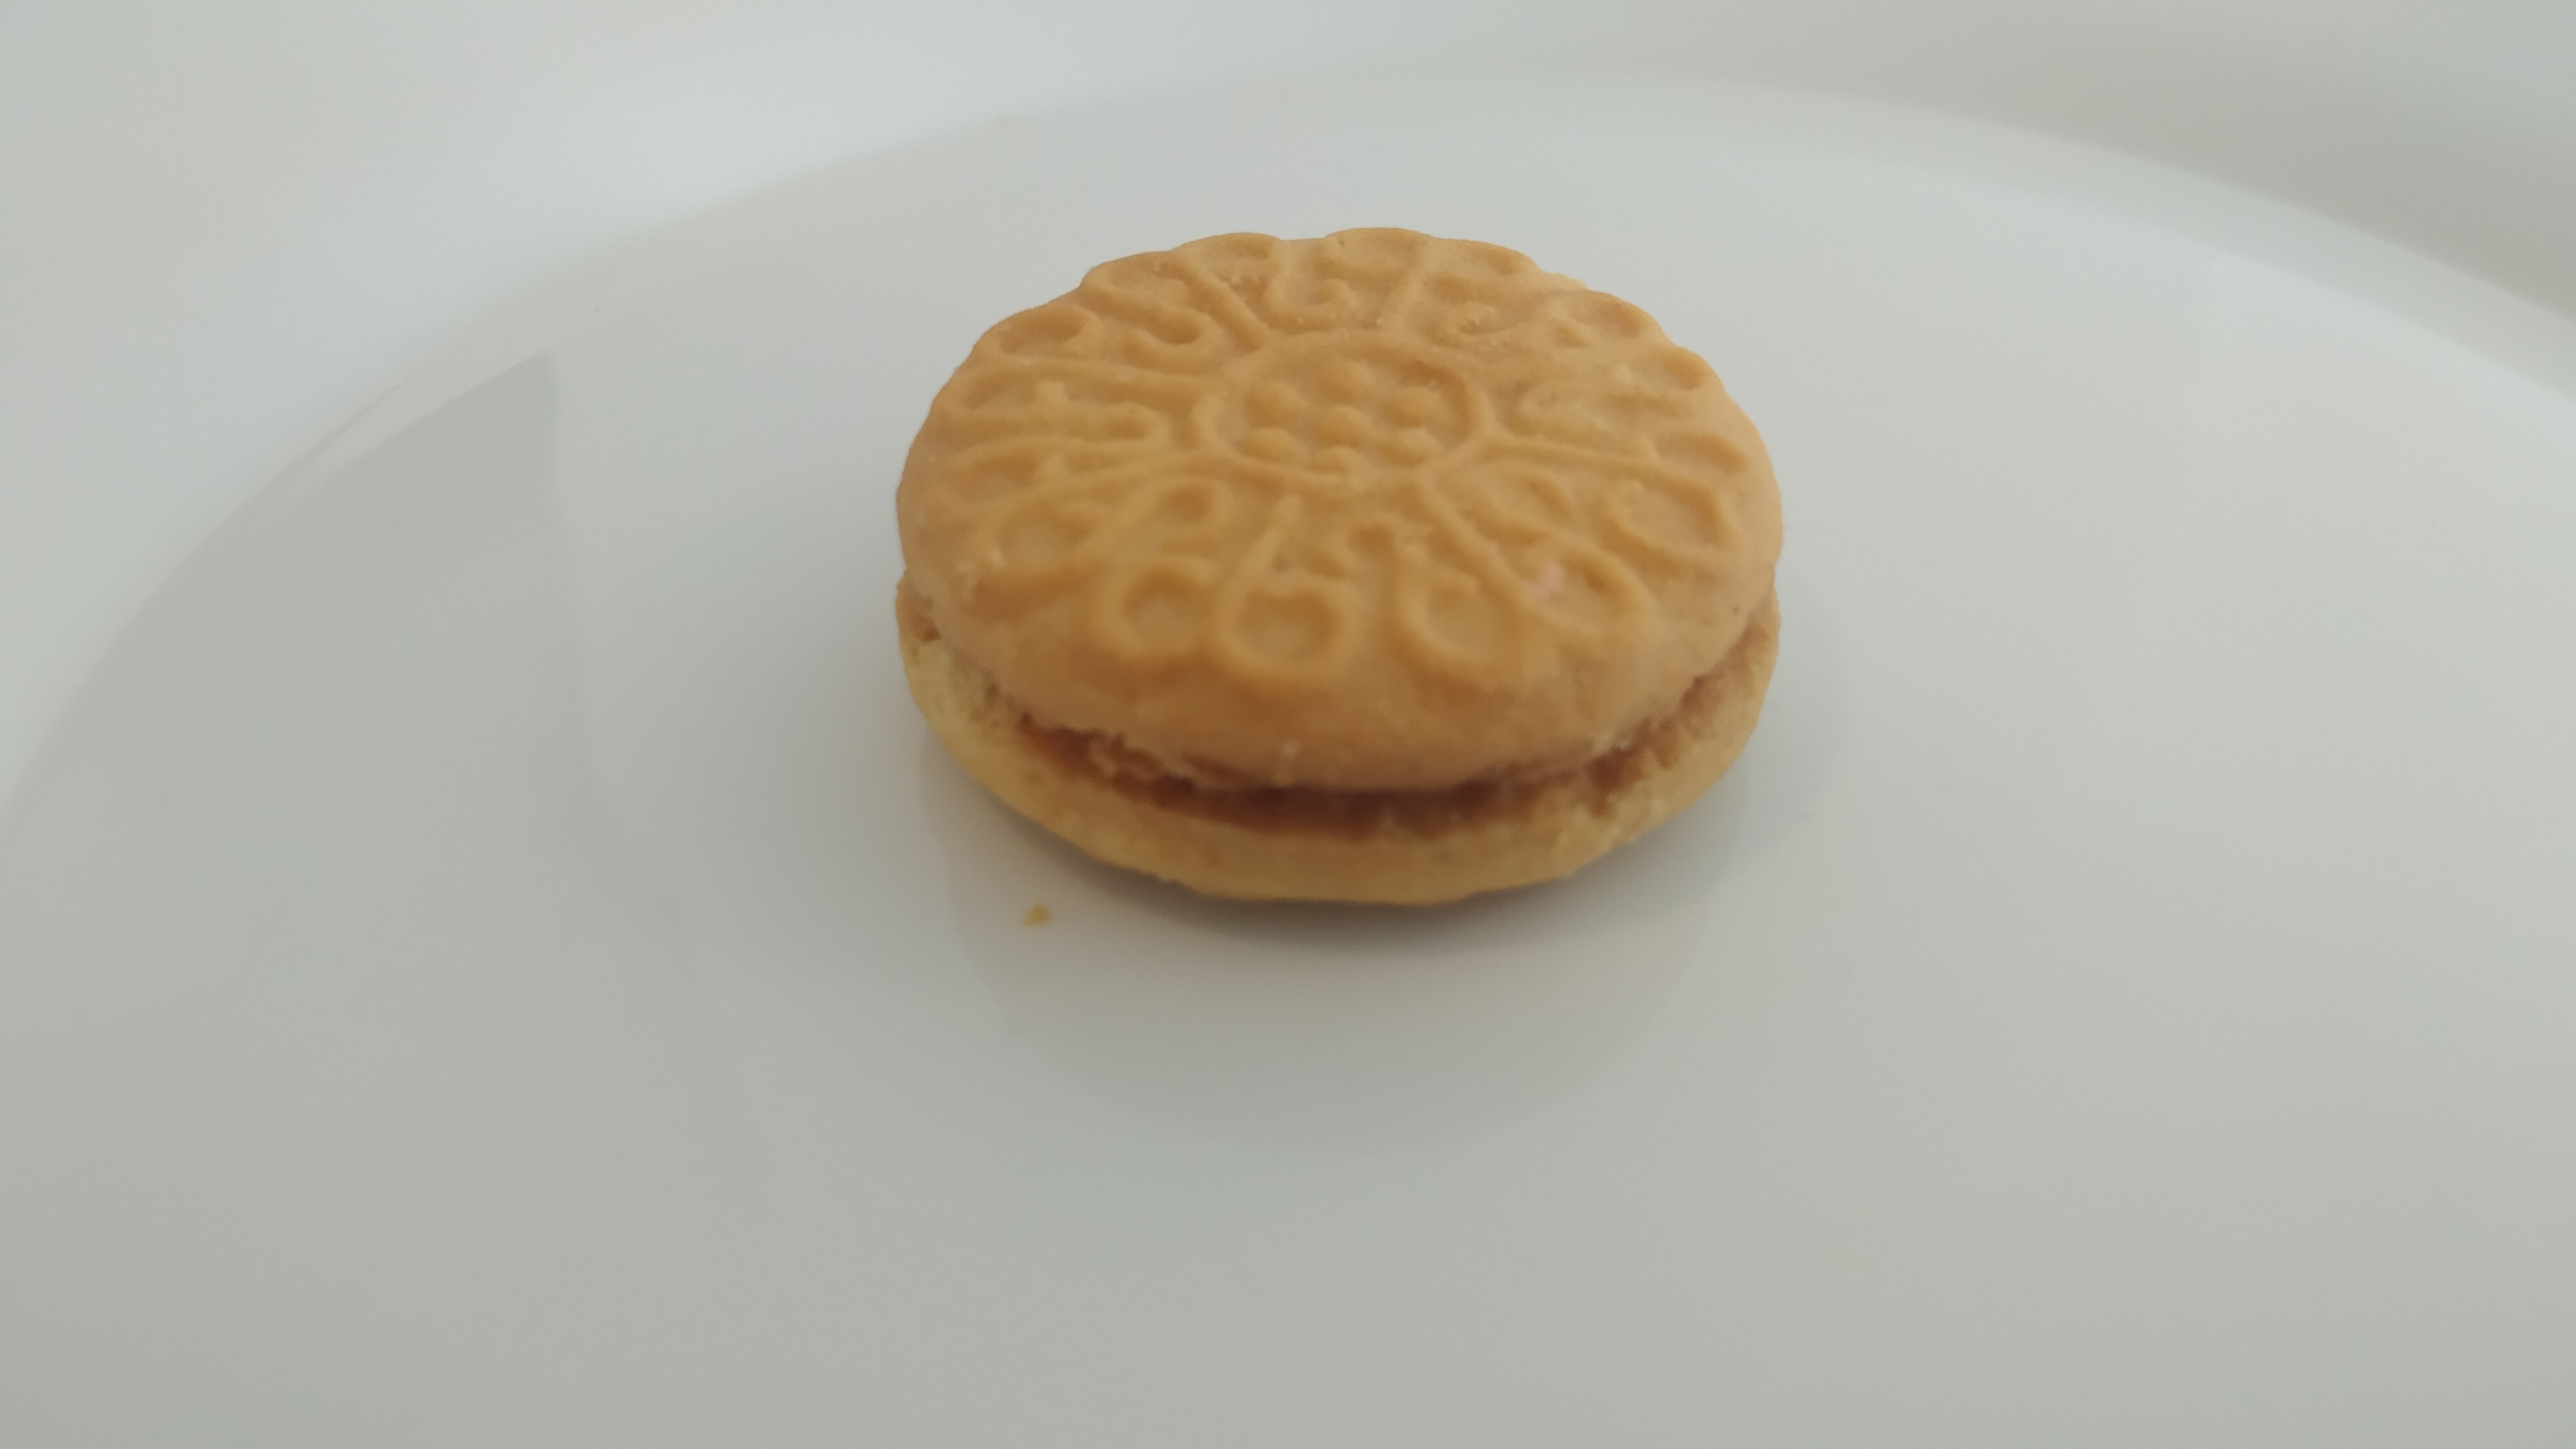lulu: (895, 226, 1782, 911)
